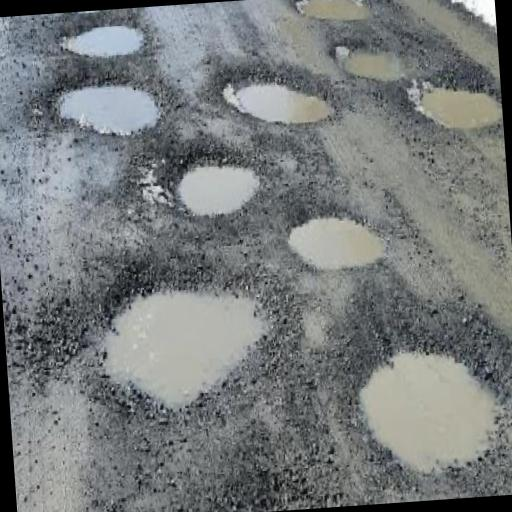pothole: (81, 256, 287, 423), (344, 328, 508, 484), (45, 62, 172, 144), (212, 52, 338, 132), (279, 199, 387, 275), (168, 143, 262, 219), (409, 72, 503, 136), (53, 14, 148, 60), (336, 38, 415, 86), (288, 0, 374, 27)
